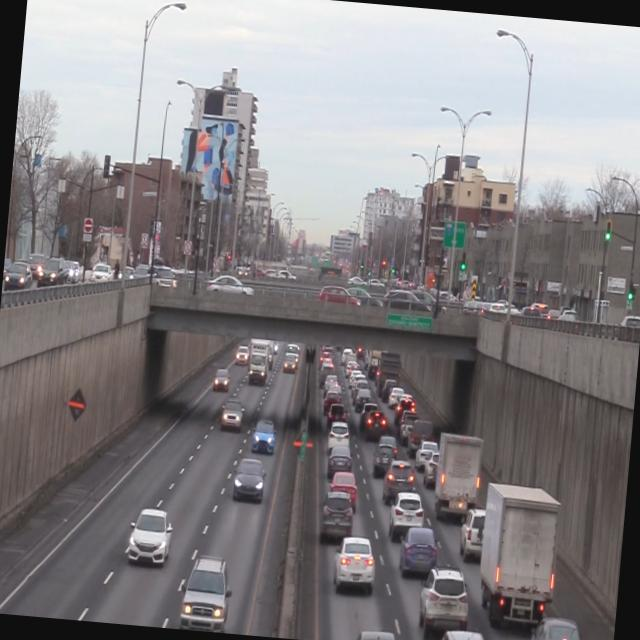Vehicle: (474, 481, 561, 636), (430, 430, 487, 524), (178, 549, 236, 633), (416, 561, 472, 640), (125, 502, 174, 570), (329, 534, 379, 596), (396, 524, 440, 578), (386, 491, 428, 544), (319, 489, 356, 544), (232, 454, 268, 504), (460, 507, 491, 564), (526, 614, 588, 640), (382, 460, 417, 504), (328, 469, 362, 512), (250, 416, 278, 456), (219, 396, 245, 432), (428, 626, 492, 640), (348, 628, 403, 640)
